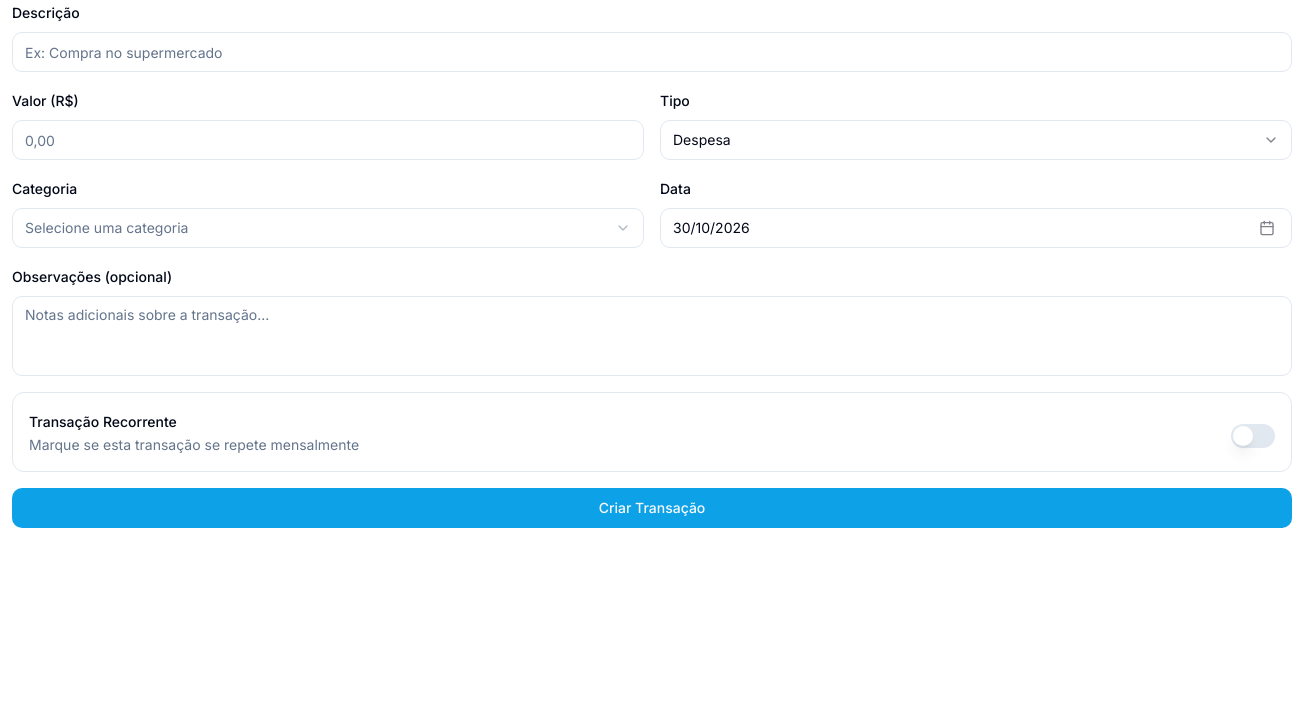
TransactionForm › deve exibir campo dia quando recorrência ativada
Click the switch at (1253, 436), box [1231,424,1275,448]
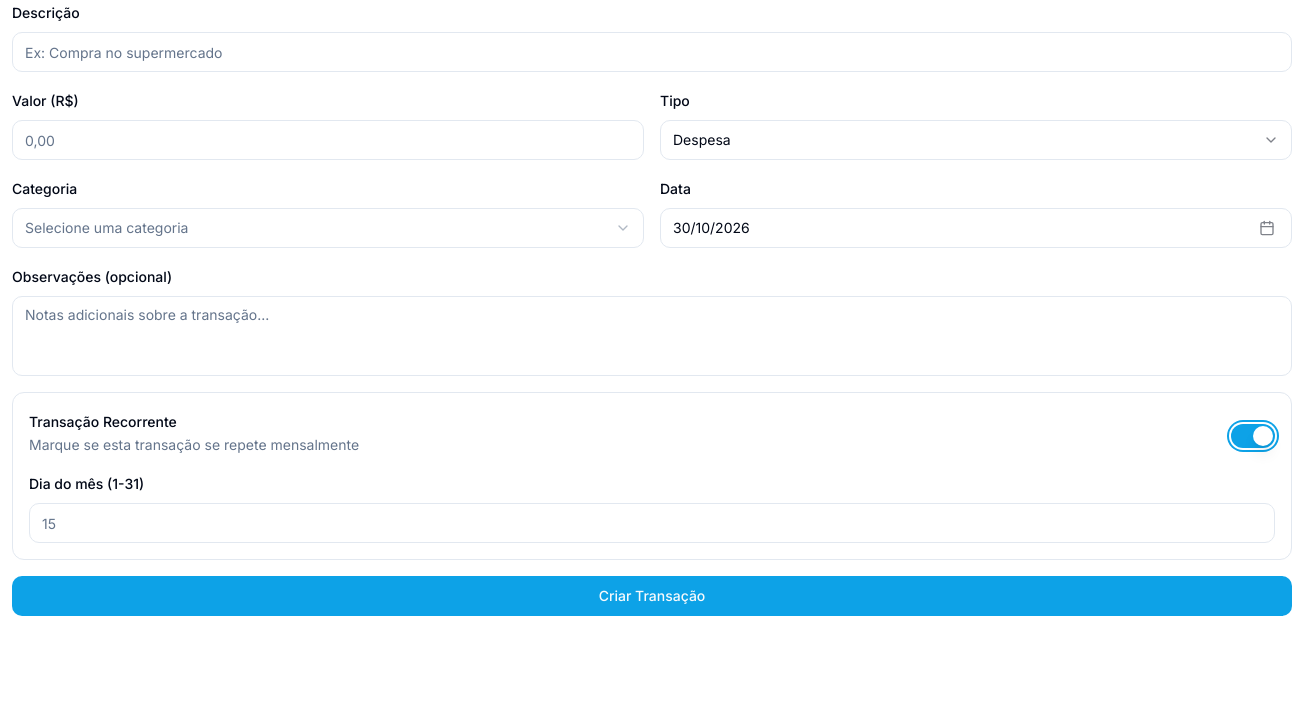
Check: the number field labelled "Dia do mês (1-31)" is shown, box [29,503,1275,543]
